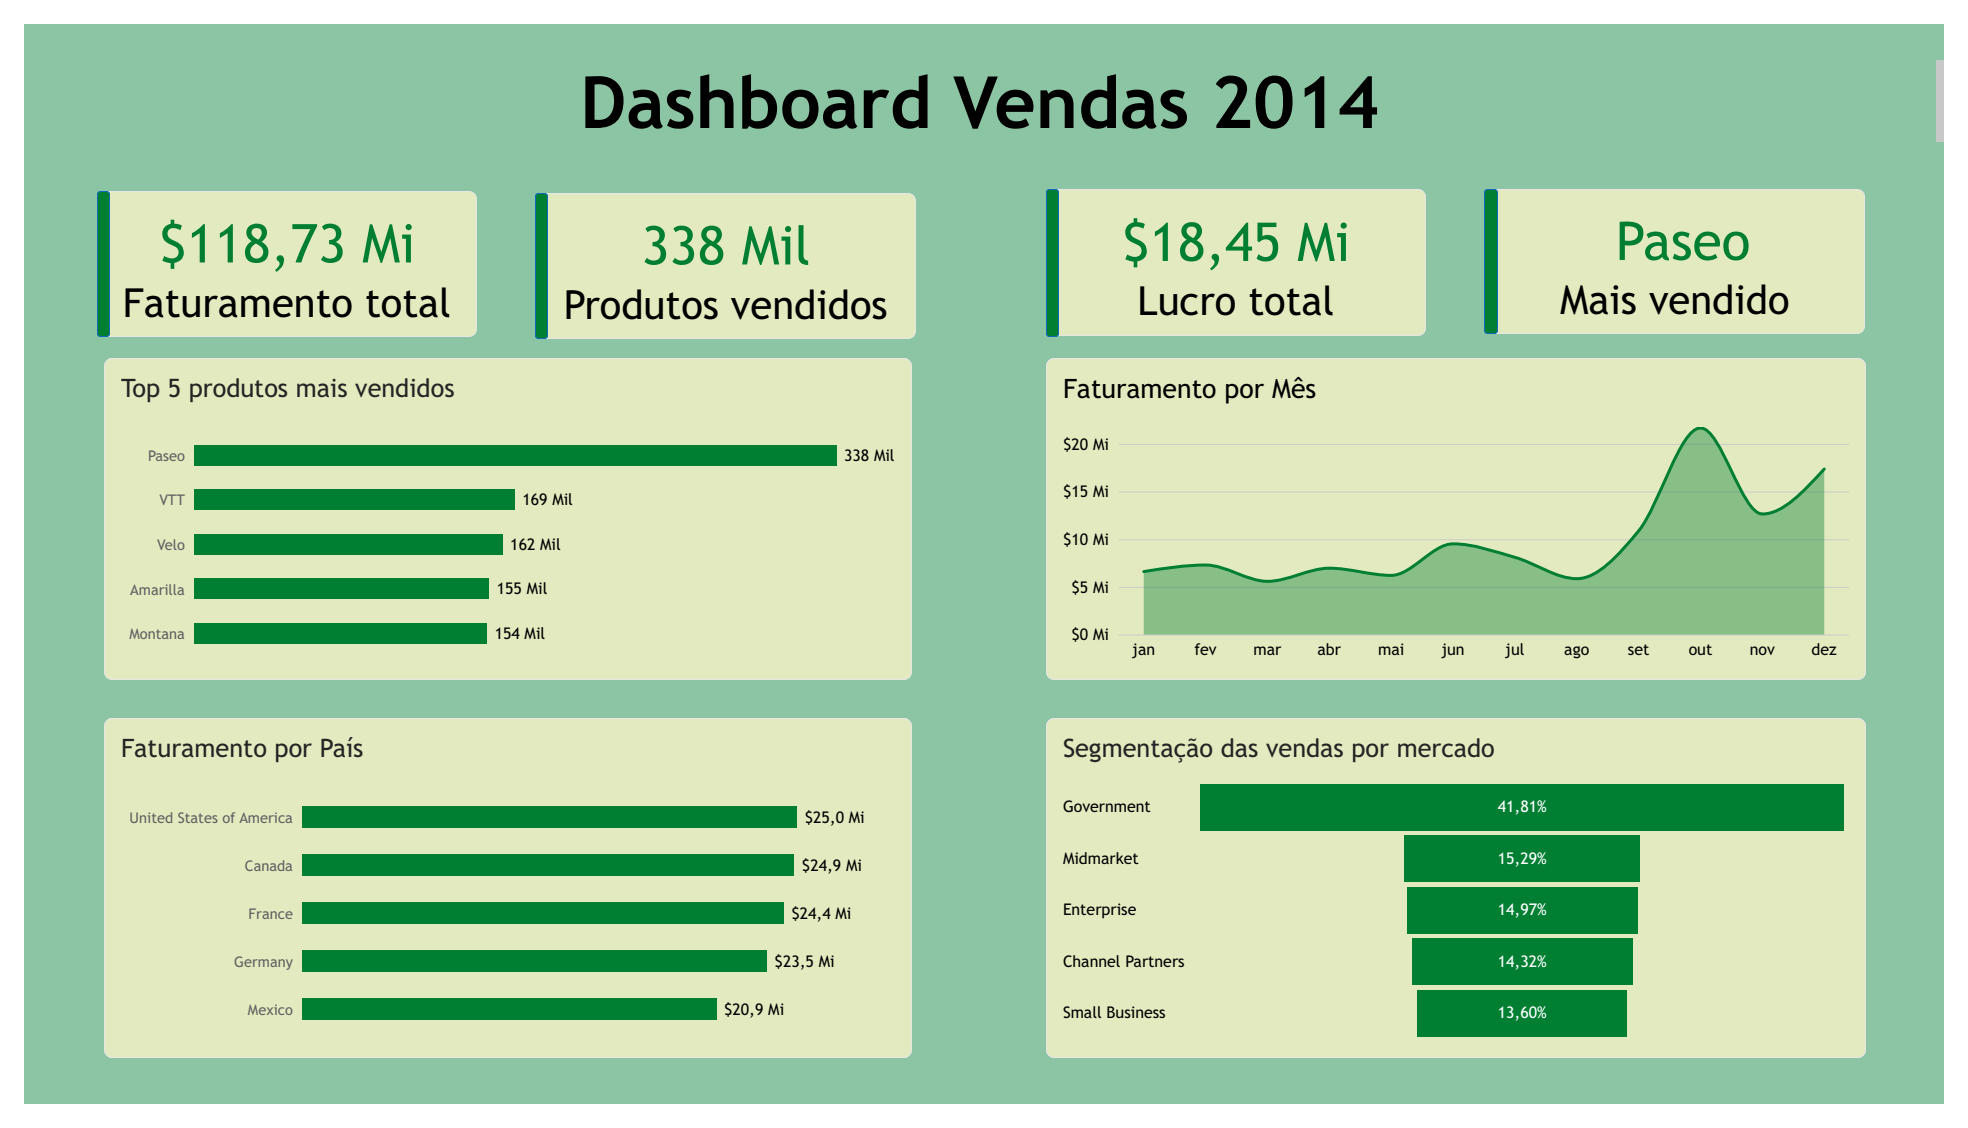

What the dashboard file says about the page in this screenshot:
{"tool":"powerbi","page":{"name":"Página 1","canvas":[1920,1080],"ordinal":0},"visuals":[{"type":"lineChart","fields":{"Y":["Sum(Financials.  Sales )"],"Category":["Financials.Month Abbr"]},"box":[1022,334,820,322],"z":0},{"type":"textbox","box":[0,36,1920,92],"z":1000},{"type":"card","fields":{"Values":["Sum(Financials.  Sales )"]},"box":[72.9,167.4,380,145.7],"z":2000},{"type":"shape","box":[72.9,167.4,12.9,145.7],"z":3000},{"type":"card","fields":{"Values":["Sum(Financials. Units Sold )"]},"box":[511.8,168.8,380,145.7],"z":4000},{"type":"shape","box":[511.3,168.8,12.9,145.7],"z":5000},{"type":"card","fields":{"Values":["Sum(Financials.Profit)"]},"box":[1022.3,165.4,380,146.2],"z":6000},{"type":"shape","box":[1022.3,164.6,12.3,148.5],"z":7000},{"type":"card","fields":{"Values":["Min(Financials. Product )"]},"box":[1460.8,164.6,380,145.4],"z":8000},{"type":"shape","box":[1460,164.6,13.8,145.4],"z":9000},{"type":"barChart","fields":{"Category":["Financials.Country"],"Y":["Sum(Financials.  Sales )"]},"box":[80,694,808,340],"z":10000},{"type":"barChart","title":"Top 5 produtos mais vendidos","fields":{"Y":["Sum(Financials. Units Sold )"],"Category":["Financials. Product "]},"box":[80,334,808,322],"z":11000},{"type":"funnel","title":"Segmentação das vendas por mercado","fields":{"Category":["Financials.Segment"],"Y":["Divide(Sum(Financials. Units Sold ), ScopedEval(Sum(Financials. Units Sold ), []))"]},"box":[1022,694,820,340],"z":12000}]}

Visuals, with their boxes in screenshot pixels (x1, y1, x2, y2), scaled from the page's 1920x1080 canvas onto the 1968x1128 screenshot:
lineChart - Sum(Financials.  Sales ) x Financials.Month Abbr: (1048,349,1888,685)
textbox: (0,38,1967,134)
card - Sum(Financials.  Sales ): (75,175,464,327)
shape: (75,175,88,327)
card - Sum(Financials. Units Sold ): (525,176,914,328)
shape: (524,176,537,328)
card - Sum(Financials.Profit): (1048,173,1437,325)
shape: (1048,172,1060,327)
card - Min(Financials. Product ): (1497,172,1887,324)
shape: (1496,172,1511,324)
barChart - Financials.Country x Sum(Financials.  Sales ): (82,725,910,1080)
"Top 5 produtos mais vendidos" barChart: (82,349,910,685)
"Segmentação das vendas por mercado" funnel: (1048,725,1888,1080)
